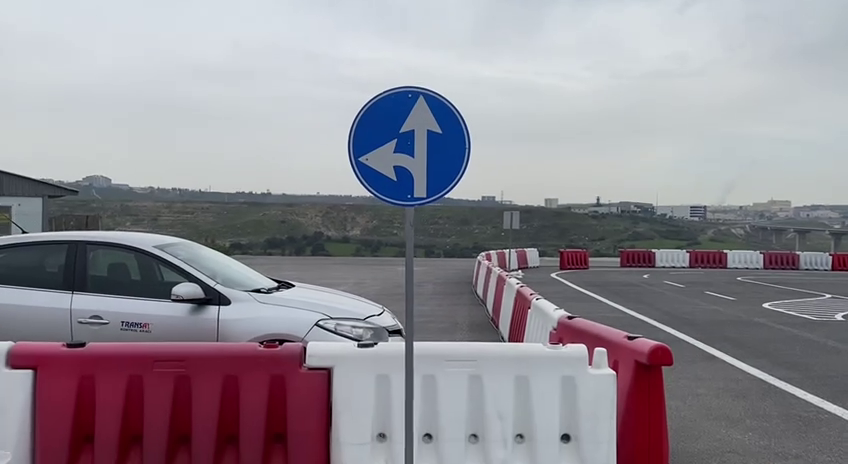forwardAndLeft: (344, 83, 473, 210)
